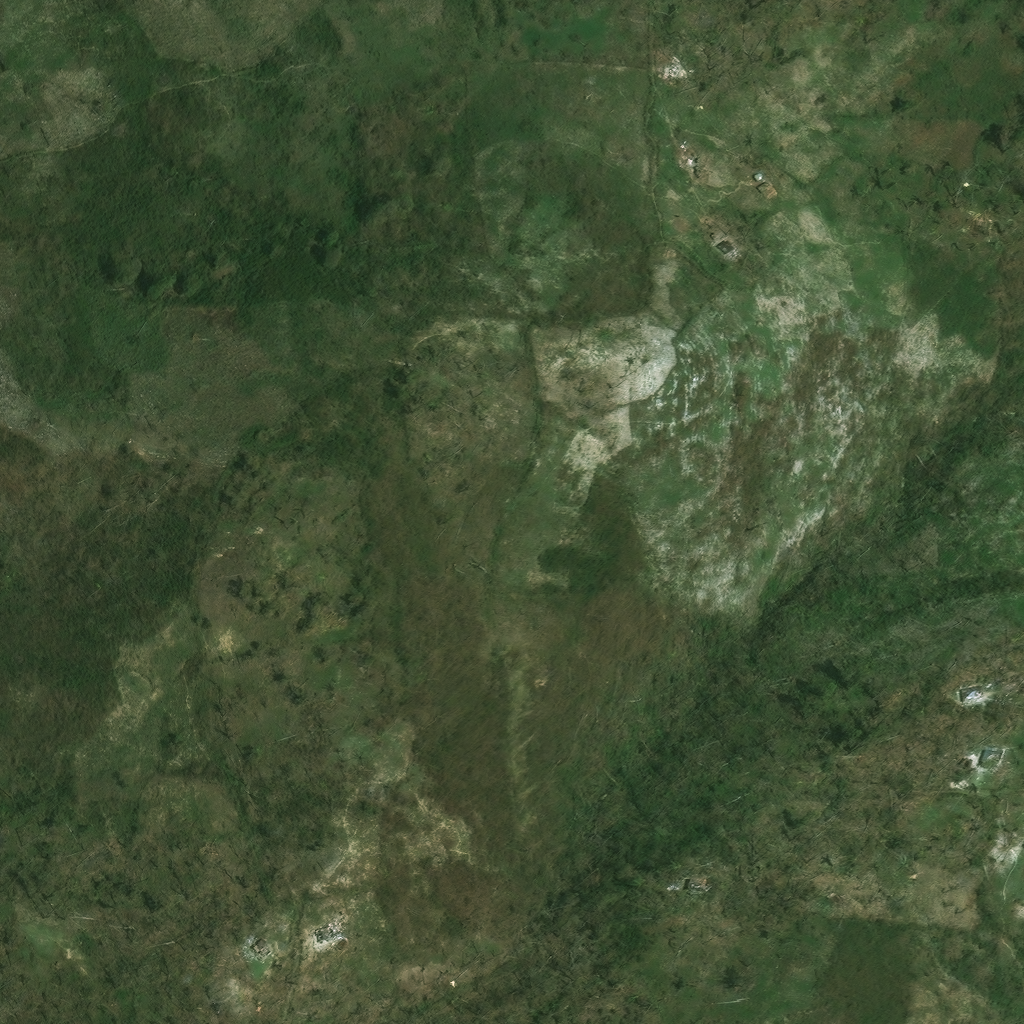destroyed: (657, 64, 677, 83), (245, 969, 259, 984), (674, 153, 688, 166)
major_damage: (747, 175, 770, 199), (249, 938, 270, 959), (307, 929, 326, 945), (937, 705, 946, 718)
minor_damage: (677, 882, 693, 899), (938, 773, 956, 788), (695, 252, 709, 267)
unclassified: (701, 6, 720, 26), (976, 400, 994, 418), (796, 906, 811, 922), (995, 389, 1009, 401)
